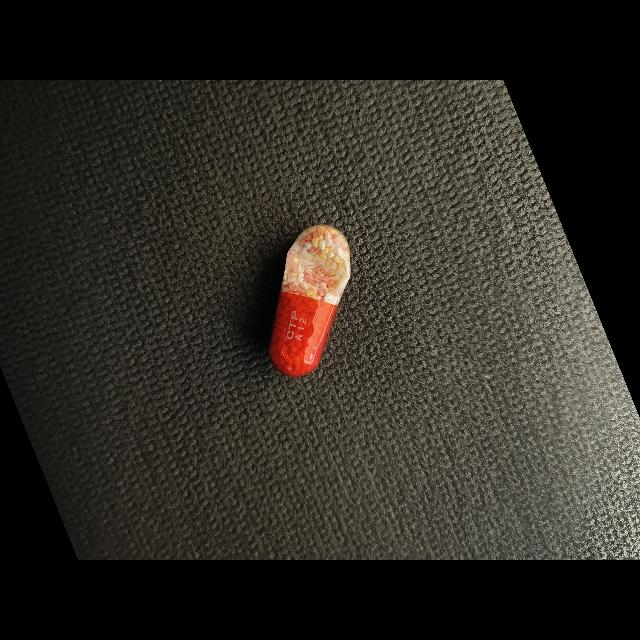Defective Capsule: (269, 225, 350, 376)
